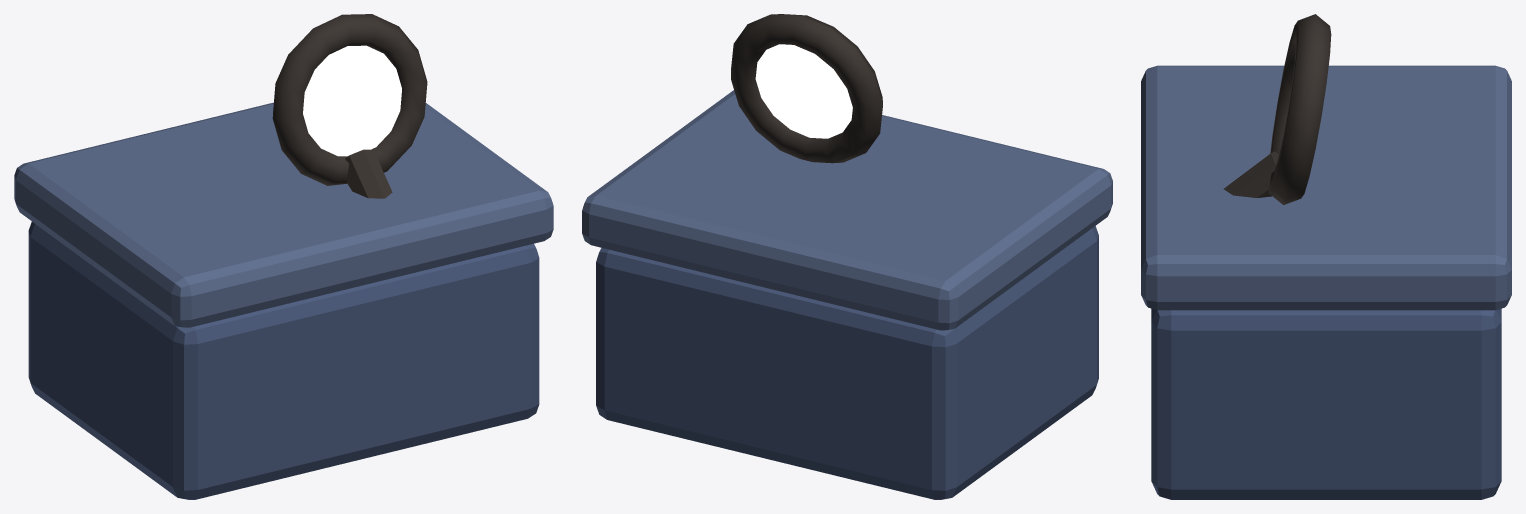
Rendered from undercover.glb.
3 renders of one model, left to right at view 1: azimuth 30°, elevation 25°; view 2: azimuth 150°, elevation 25°; view 3: azimuth 270°, elevation 25°, orthographic. The views are drawn at different scales.
Parts seen in each view (by area): view 1: undercover_navy, undercover_slate, undercover_dark, undercover_ems; view 2: undercover_navy, undercover_slate, undercover_dark, undercover_ems; view 3: undercover_slate, undercover_navy, undercover_dark.
Part boxes in pixels (x1=…): undercover_navy: x1=28, y1=221, x2=539, y2=499; undercover_slate: x1=14, y1=102, x2=553, y2=327; undercover_dark: x1=272, y1=14, x2=427, y2=198; undercover_ems: x1=303, y1=45, x2=401, y2=156; undercover_navy: x1=596, y1=226, x2=1098, y2=499; undercover_slate: x1=582, y1=90, x2=1112, y2=330; undercover_dark: x1=731, y1=14, x2=882, y2=163; undercover_ems: x1=755, y1=44, x2=852, y2=138; undercover_slate: x1=1141, y1=65, x2=1511, y2=310; undercover_navy: x1=1151, y1=308, x2=1501, y2=499; undercover_dark: x1=1223, y1=14, x2=1331, y2=204.
Size of the model in its own units: 0.355 by 0.3408 by 0.275.
